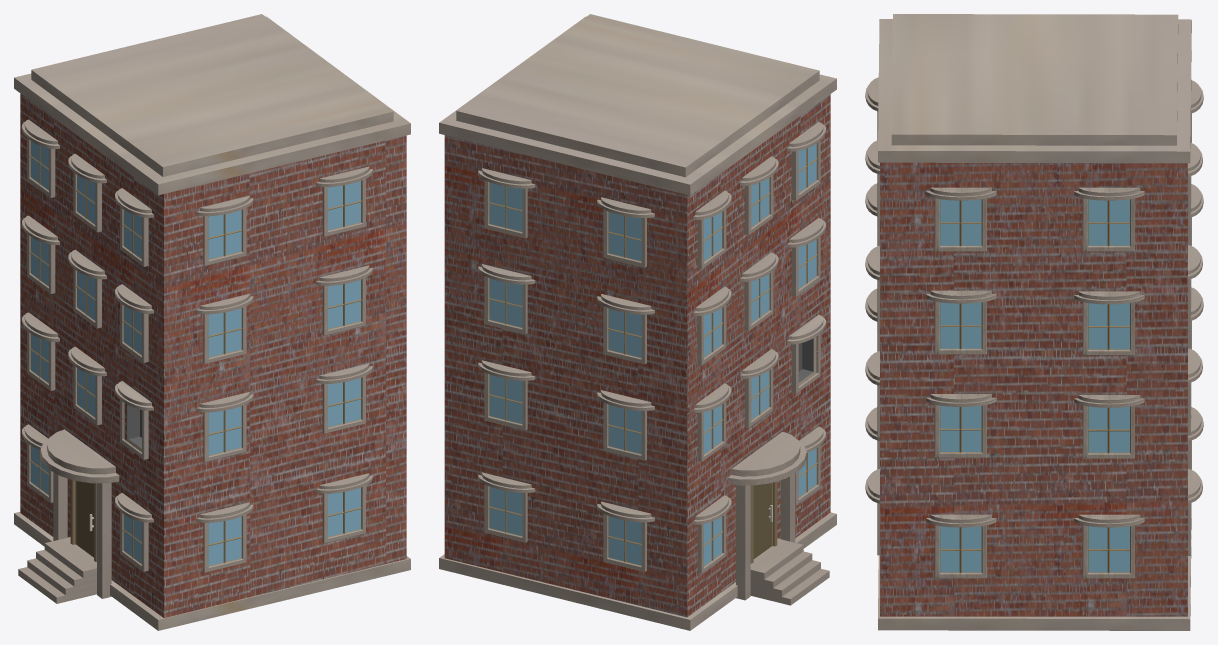
The model's file is EdicioLlamasVentana.fbx.
The picture shows the model from 3 angles, left to right: view 1: azimuth 30°, elevation 25°; view 2: azimuth 150°, elevation 25°; view 3: azimuth 270°, elevation 25°; orthographic projection. The views are drawn at different scales.
Parts seen in each view (by area): view 1: BaseEdificio, TechoYSuelo, VentanaSegundoPiso, VentanasDerecha, Puerta.001; view 2: BaseEdificio, TechoYSuelo, VentanaSegundoPiso, VentanasIzquierda, Puerta.001; view 3: BaseEdificio, TechoYSuelo, VentanasIzquierda.001, VentanasIzquierda, VentanasDerecha.
Boxes of the visible parts, left/top/right/bottom form: BaseEdificio: left=20, top=93, right=406, bottom=617; TechoYSuelo: left=14, top=14, right=410, bottom=630; VentanaSegundoPiso: left=18, top=119, right=153, bottom=603; VentanasDerecha: left=196, top=166, right=372, bottom=572; Puerta.001: left=70, top=479, right=96, bottom=561; BaseEdificio: left=444, top=94, right=830, bottom=617; TechoYSuelo: left=439, top=14, right=836, bottom=630; VentanaSegundoPiso: left=693, top=122, right=829, bottom=605; VentanasIzquierda: left=478, top=168, right=654, bottom=571; Puerta.001: left=750, top=481, right=777, bottom=563; BaseEdificio: left=880, top=162, right=1187, bottom=616; TechoYSuelo: left=878, top=14, right=1191, bottom=630; VentanasIzquierda.001: left=926, top=187, right=1144, bottom=578; VentanasIzquierda: left=1188, top=80, right=1203, bottom=555; VentanasDerecha: left=865, top=77, right=879, bottom=555.
Bounding box in the file's own units: 611 × 870 × 542.
Materials: 7 (2 with a texture image).
